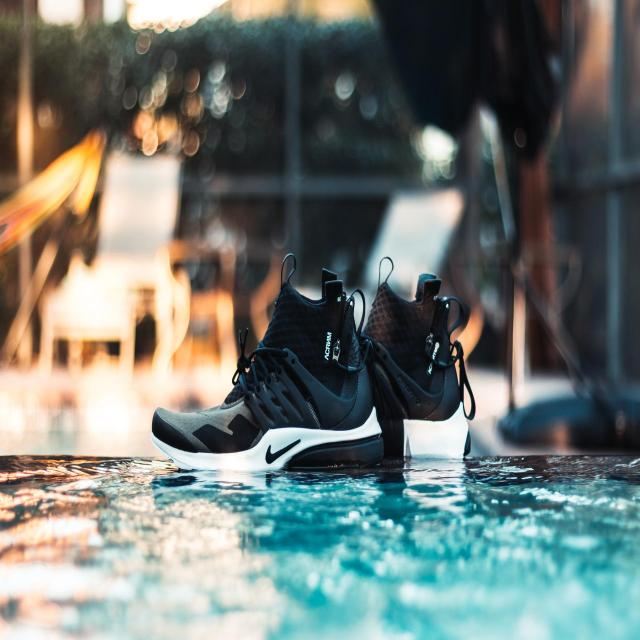shoe: (145, 248, 386, 484), (358, 253, 478, 477)
